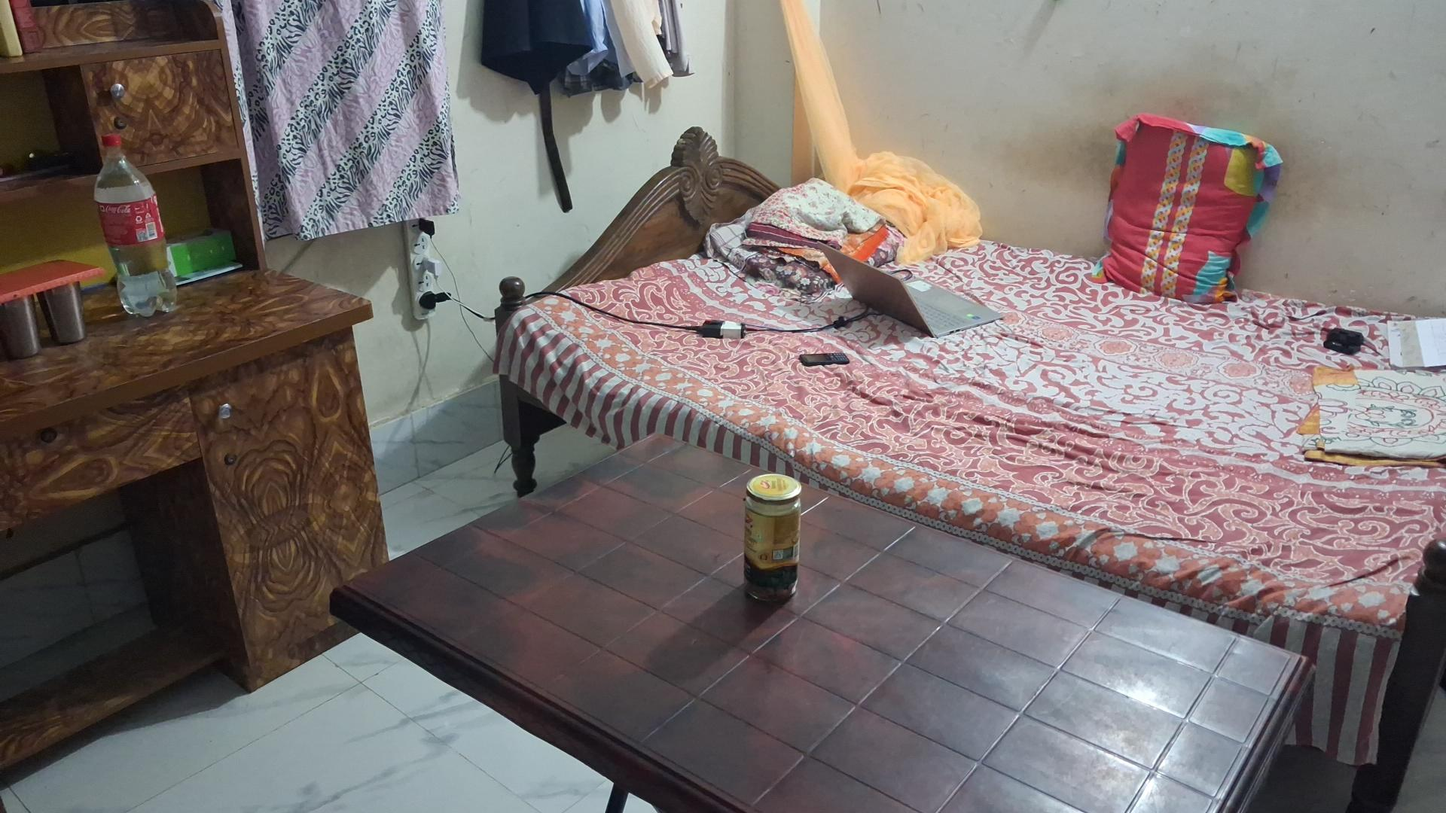Bottle: (94, 133, 177, 317)
Box: (164, 230, 247, 280)
Glass: (0, 294, 42, 360), (42, 289, 88, 344)
Jar: (742, 472, 802, 604)
Laptop: (820, 247, 1004, 339)
Pillow: (1102, 95, 1277, 313)
Table: (331, 420, 1312, 813)
